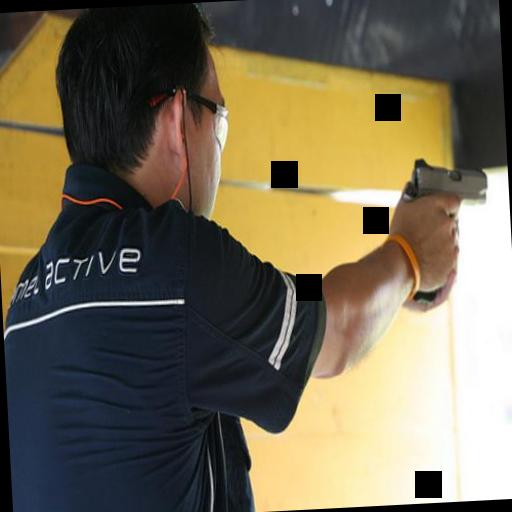Handgun: (400, 152, 499, 304)
